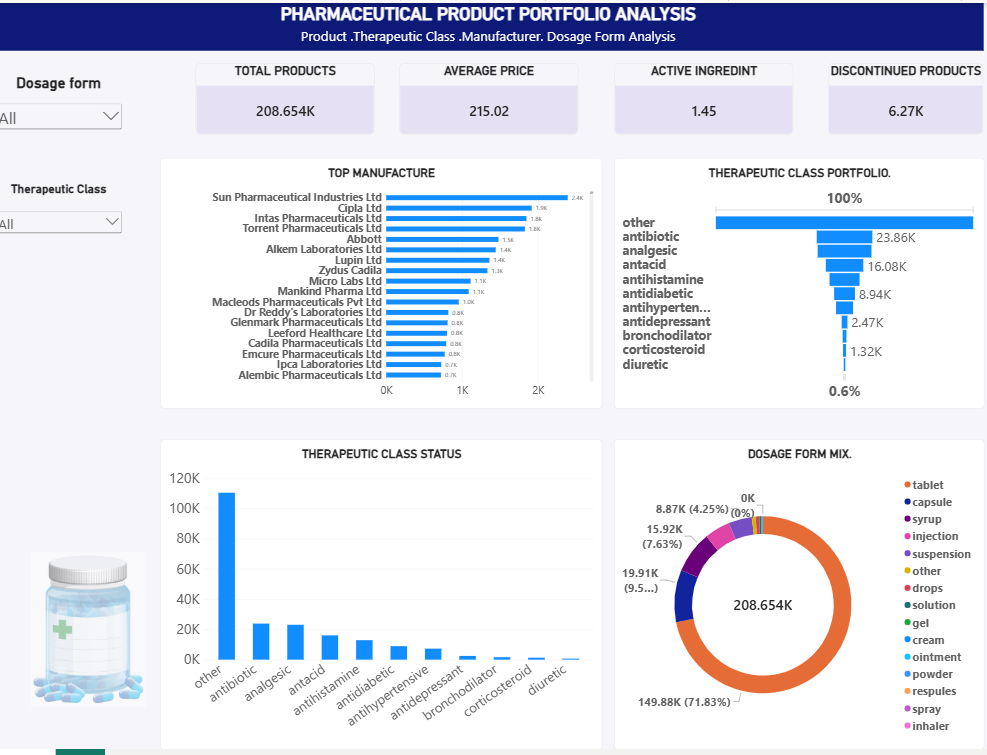

What the dashboard file says about the page in this screenshot:
{"tool":"powerbi","page":{"name":"Page 1","canvas":[2000,1500],"ordinal":0},"visuals":[{"type":"slicer","title":"Dosage form","fields":{"Values":["indian_pharmaceutical_products.dosage_form"]},"box":[0,144,264,240],"z":1000},{"type":"cardVisual","title":"TOTAL PRODUCTS","fields":{"Data":["CountNonNull(indian_pharmaceutical_products.product_id)"]},"box":[408,120,360,144],"z":2000},{"type":"cardVisual","title":"AVERAGE PRICE","fields":{"Data":["Avg(indian_pharmaceutical_products.price_inr)"]},"box":[816,120,360,144],"z":3000},{"type":"cardVisual","title":"ACTIVE INGREDINT","fields":{"Data":["Avg(indian_pharmaceutical_products.num_active_ingredients)"]},"box":[1248,120,360,144],"z":4000},{"type":"cardVisual","title":"DISCONTINUED PRODUCTS","fields":{"Data":["Count(indian_pharmaceutical_products.product_id)"]},"box":[1680,120,312,144],"z":5000},{"type":"barChart","title":"TOP MANUFACTURE","fields":{"Category":["indian_pharmaceutical_products.manufacturer"],"Y":["CountNonNull(indian_pharmaceutical_products.product_id)"]},"box":[336,312,888,504],"z":6000},{"type":"clusteredColumnChart","title":"THERAPEUTIC CLASS STATUS","fields":{"Category":["indian_pharmaceutical_products.therapeutic_class"],"Y":["CountNonNull(indian_pharmaceutical_products.product_id)"]},"box":[336,876,888,624],"z":7000},{"type":"donutChart","title":"DOSAGE FORM MIX.","fields":{"Category":["indian_pharmaceutical_products.dosage_form"],"Y":["CountNonNull(indian_pharmaceutical_products.product_id)"]},"box":[1248,876,744,624],"z":8000},{"type":"funnel","title":"THERAPEUTIC CLASS PORTFOLIO.","fields":{"Category":["indian_pharmaceutical_products.therapeutic_class"],"Y":["CountNonNull(indian_pharmaceutical_products.product_id)"]},"box":[1248,312,744,504],"z":9000},{"type":"textbox","title":"PHARMACEUTICAL PRODUCT PORTFOLIO ANALYSIS","box":[0,0,1992,96],"z":10000},{"type":"image","box":[48,1104,288,312],"z":12000},{"type":"slicer","title":"Therapeutic Class","fields":{"Values":["indian_pharmaceutical_products.therapeutic_class"]},"box":[0,360,264,240],"z":13000}]}

Visuals, with their boxes in screenshot pixels (x1, y1, x2, y2), scaled from the page's 2000x1500 canvas onto the 987x755 screenshot:
"Dosage form" slicer: l=0, t=72, r=130, b=193
"TOTAL PRODUCTS" cardVisual: l=201, t=60, r=379, b=133
"AVERAGE PRICE" cardVisual: l=403, t=60, r=580, b=133
"ACTIVE INGREDINT" cardVisual: l=616, t=60, r=794, b=133
"DISCONTINUED PRODUCTS" cardVisual: l=829, t=60, r=983, b=133
"TOP MANUFACTURE" barChart: l=166, t=157, r=604, b=411
"THERAPEUTIC CLASS STATUS" clusteredColumnChart: l=166, t=441, r=604, b=754
"DOSAGE FORM MIX." donutChart: l=616, t=441, r=983, b=754
"THERAPEUTIC CLASS PORTFOLIO." funnel: l=616, t=157, r=983, b=411
"PHARMACEUTICAL PRODUCT PORTFOLIO ANALYSIS" textbox: l=0, t=0, r=983, b=48
image: l=24, t=556, r=166, b=713
"Therapeutic Class" slicer: l=0, t=181, r=130, b=302
